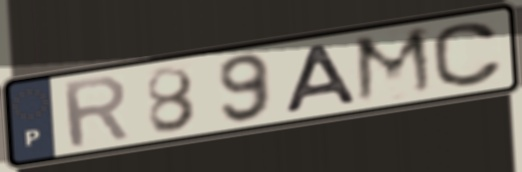8: (143, 64, 199, 135)
9: (215, 51, 275, 125)
A: (282, 41, 361, 117)
C: (428, 19, 507, 90)
M: (350, 23, 440, 108)
R: (58, 72, 134, 152)
